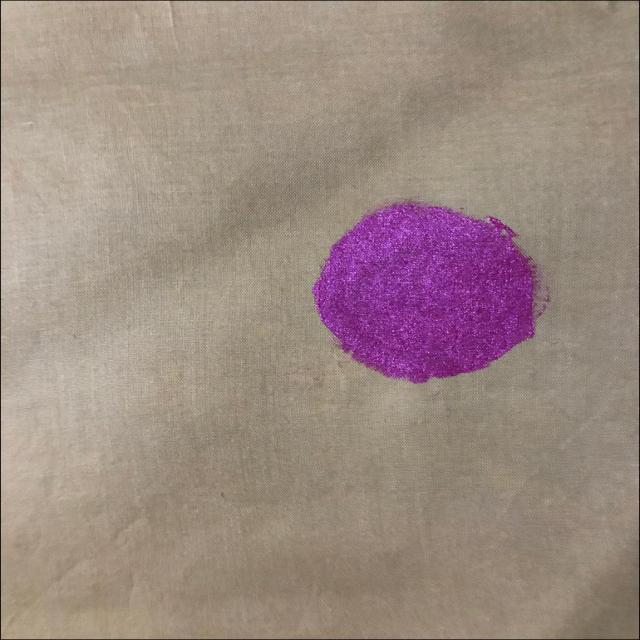Stain: (313, 202, 544, 383)
